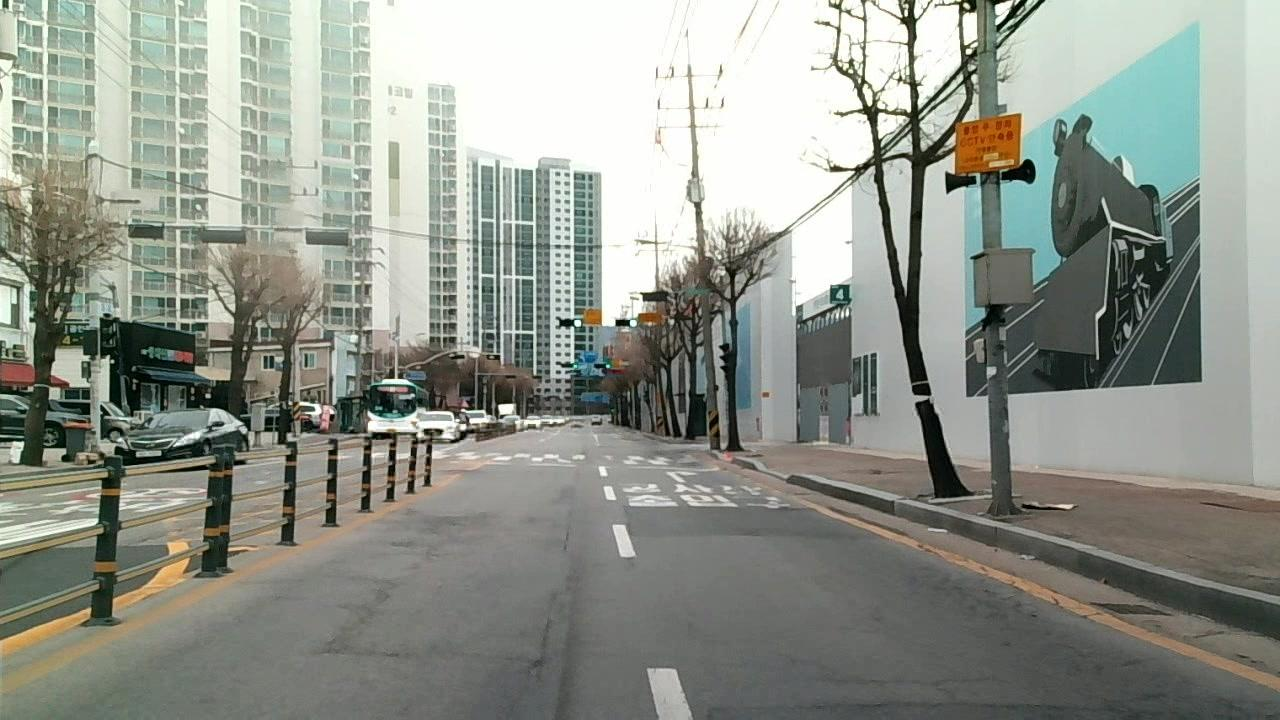vcrack: (306, 573, 405, 661), (524, 577, 563, 675)
